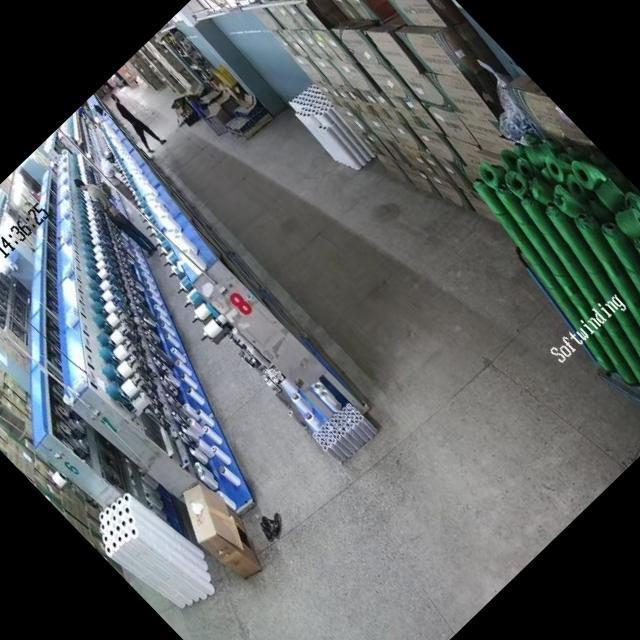person: (71, 168, 158, 257), (104, 90, 162, 150)
